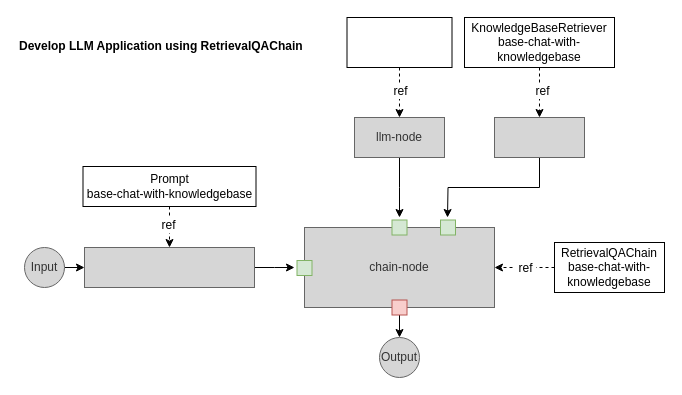
Some shapes in this 682 by 395 pixel diagram are drawn without their labels. Each missing label, with the centre of its shape:
"LLM base-chat-with-knowledgebase" belongs at (x=399, y=42).
"prompt-node" belongs at (x=169, y=267).
"retriever-node" belongs at (x=539, y=137).
